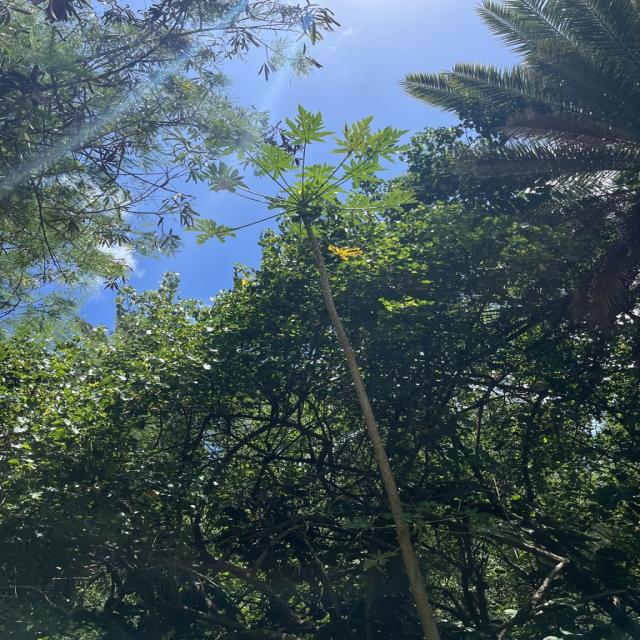Papaya-Tree: (200, 104, 445, 634)
